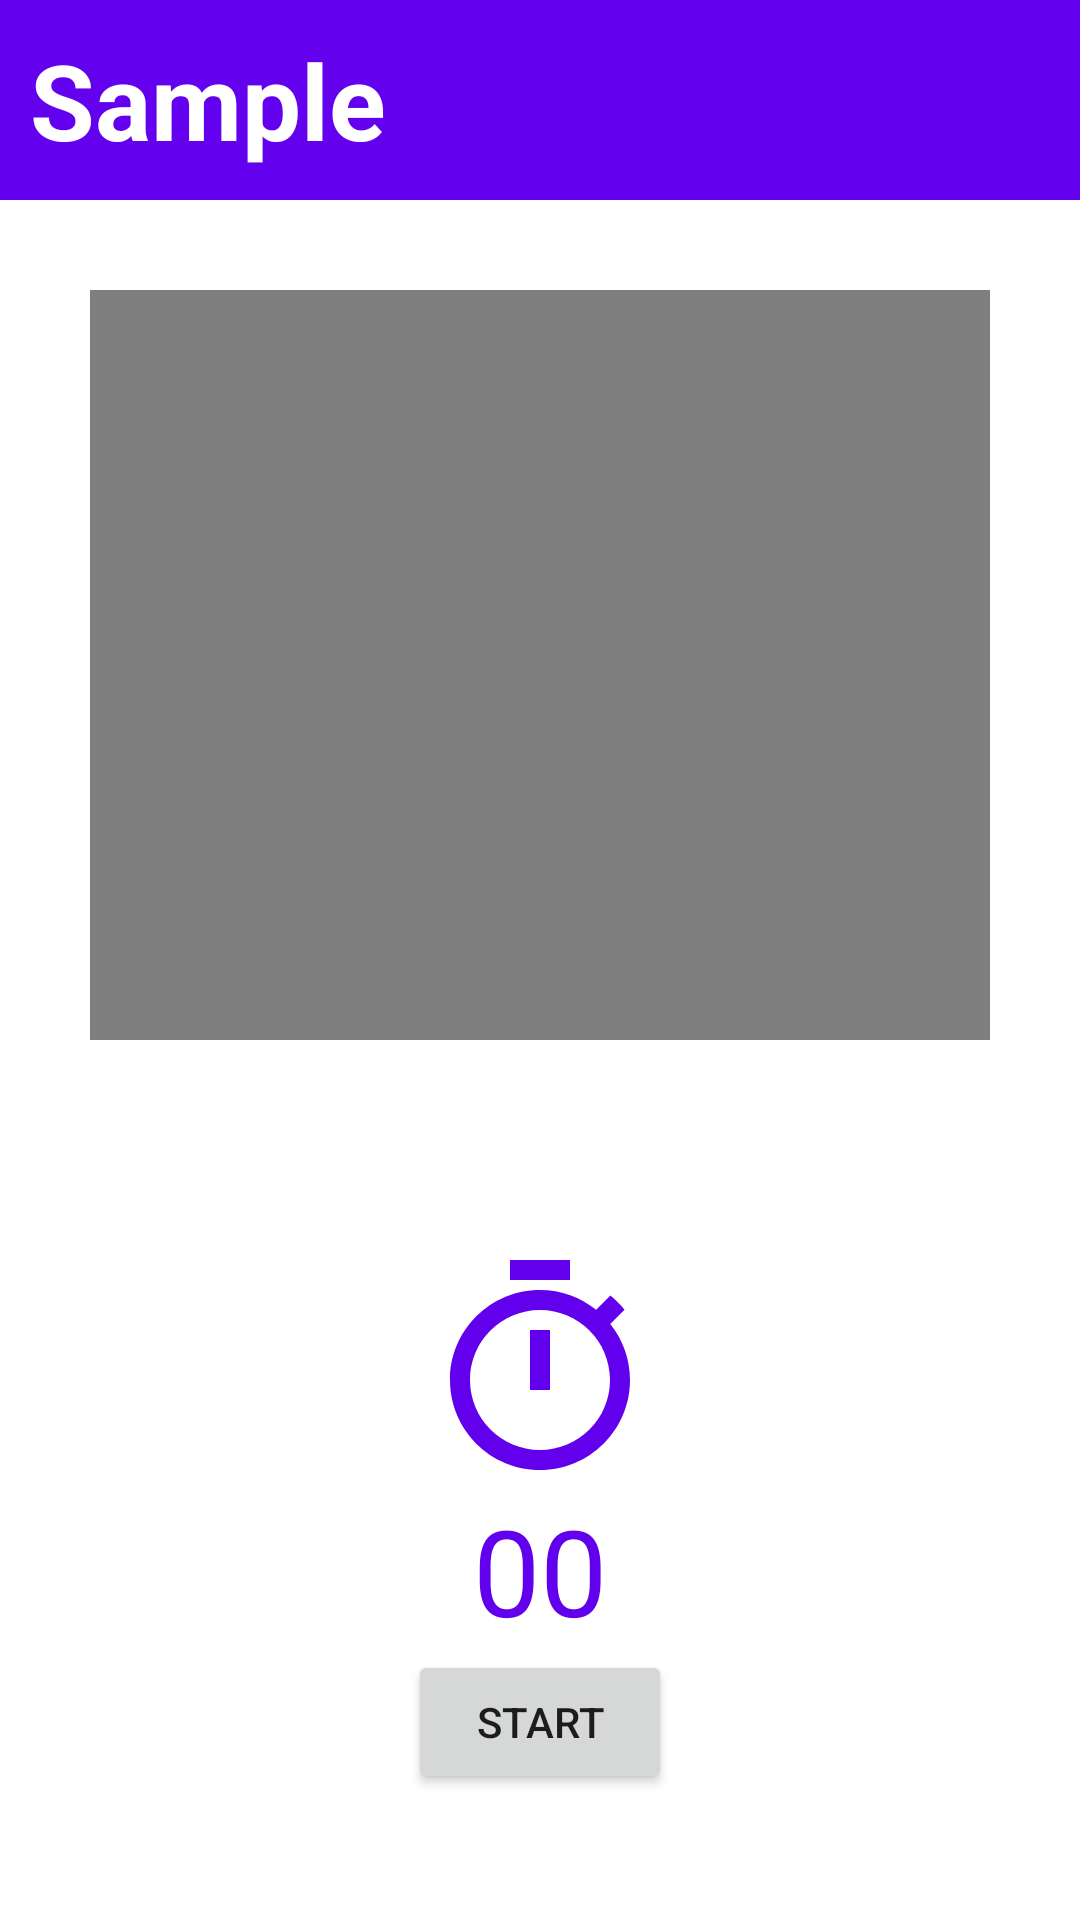

Icons on this 1080px×1920px Android screen, each with its box as (x1, y1, x2, y2):
timer: (449, 1260, 630, 1470)
